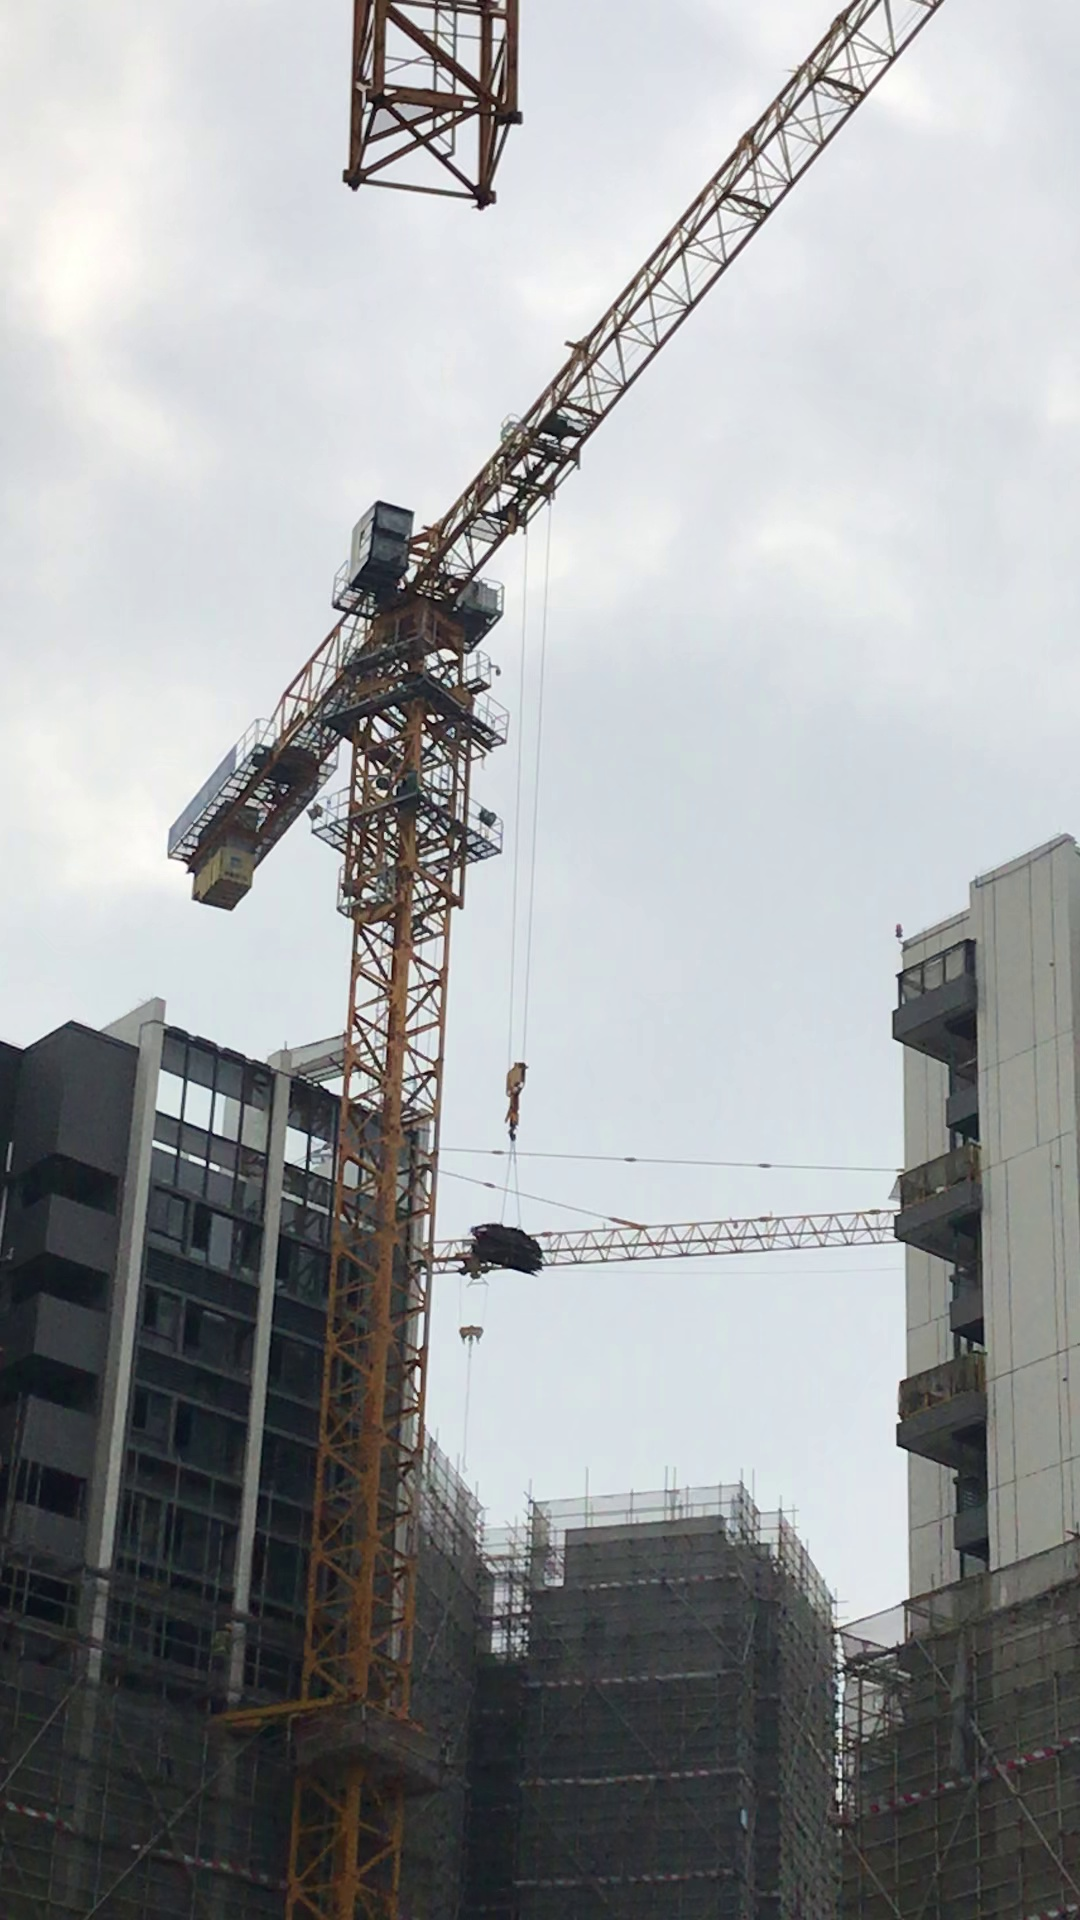board: (469, 1217, 545, 1279)
hook: (500, 1062, 529, 1146), (458, 1323, 487, 1345)
